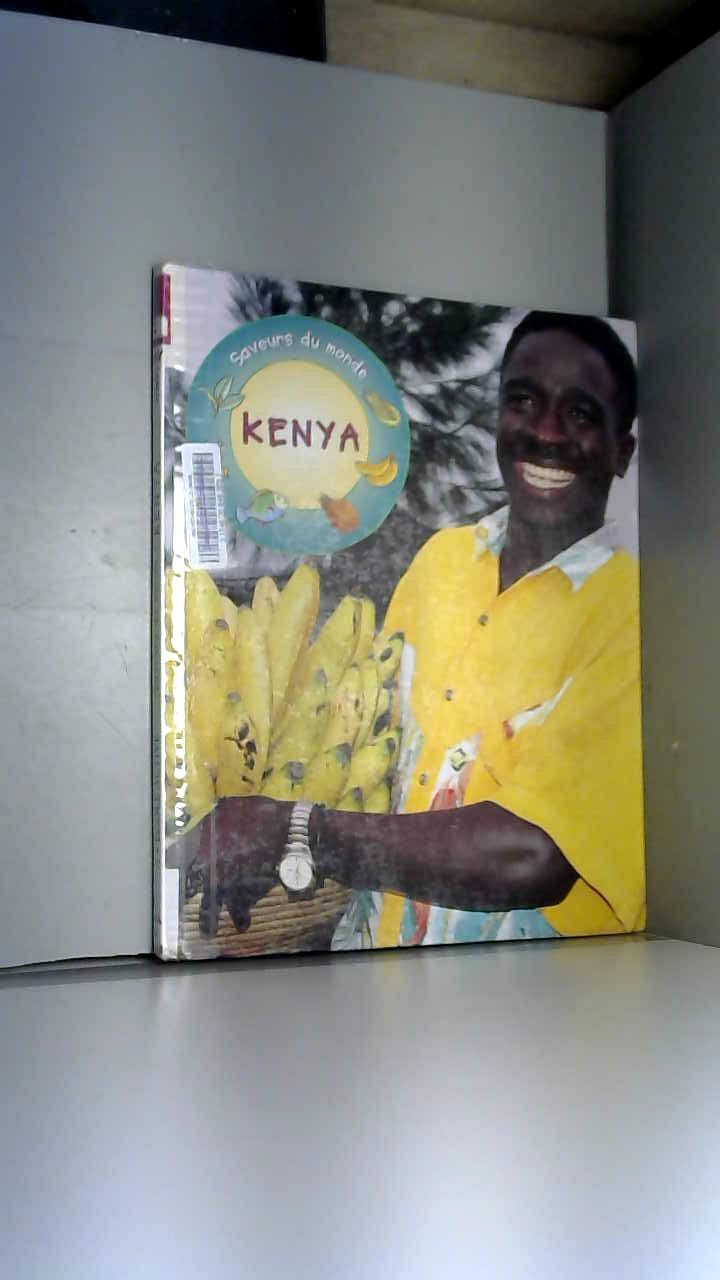book: (117, 225, 687, 1001)
